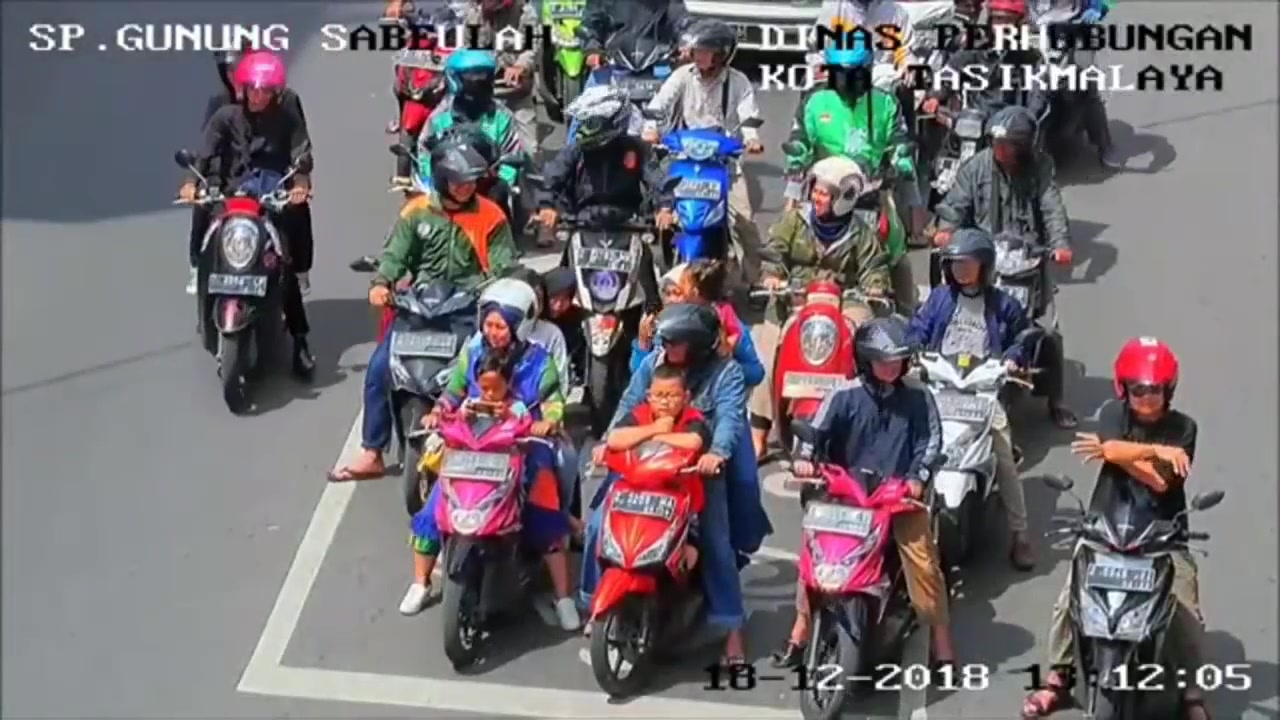person with helmet: (805, 151, 868, 245), (233, 52, 296, 135), (425, 135, 489, 213)
person with motorcycle: (182, 46, 312, 438), (372, 138, 508, 356), (779, 155, 872, 381)
